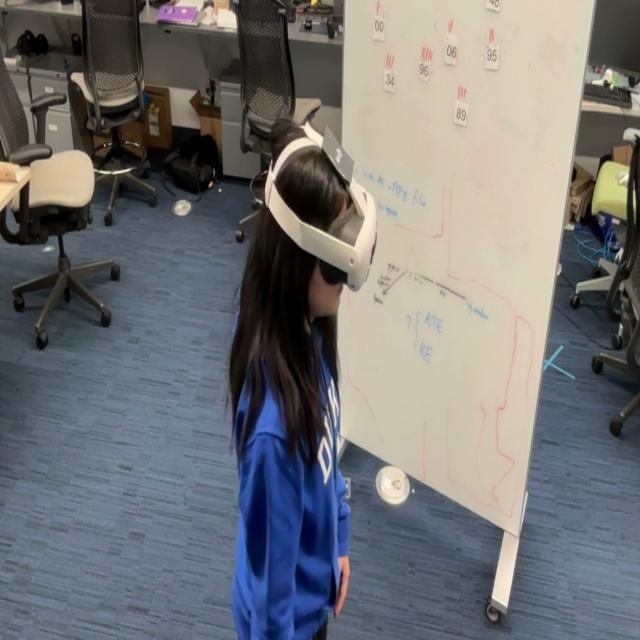Headset: (263, 120, 378, 292)
UnityLogo: (320, 121, 356, 188)
